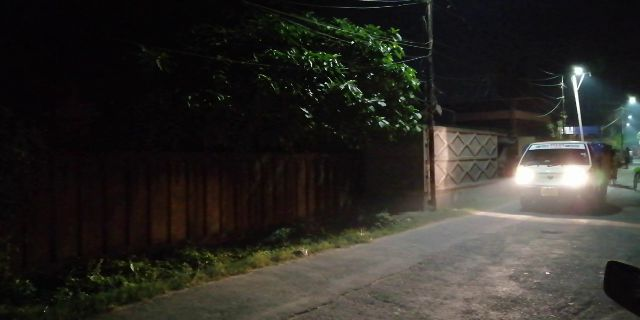Car: (514, 141, 609, 201)
